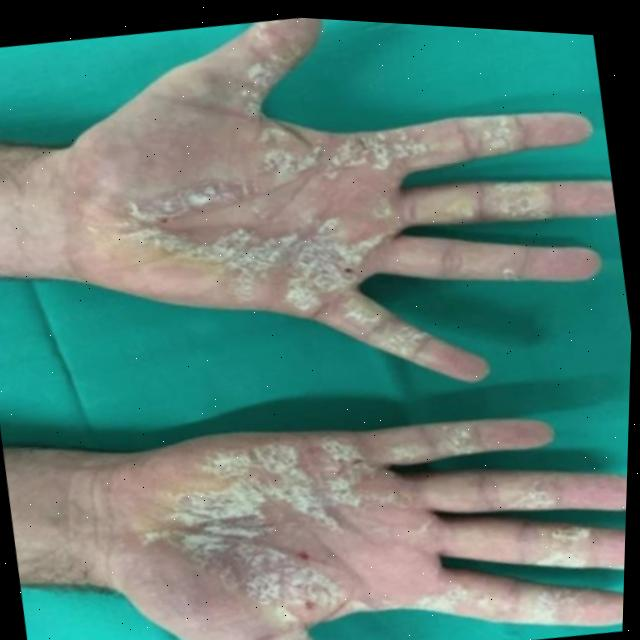Eczema: (122, 65, 468, 335), (152, 414, 423, 635)
